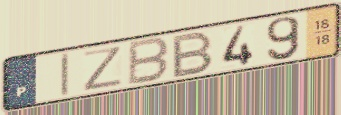4: (219, 23, 256, 68)
9: (265, 14, 302, 62)
B: (125, 35, 172, 88), (170, 29, 216, 80)
I: (58, 51, 71, 99)
Z: (81, 44, 125, 93)
